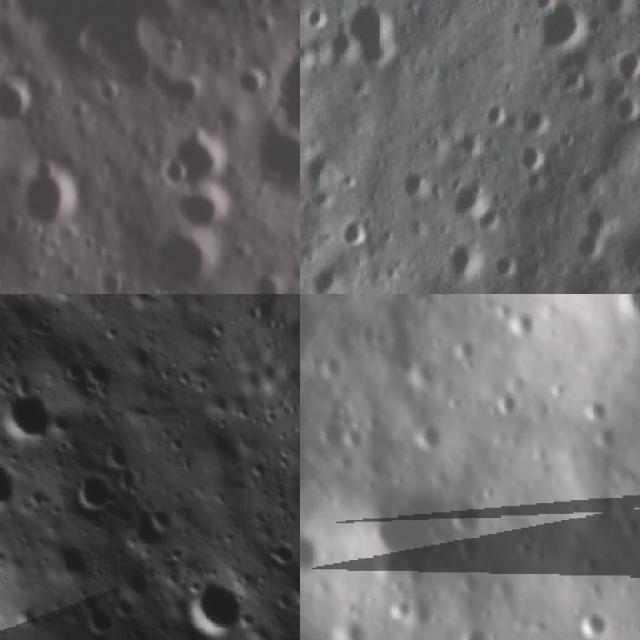crater: (342, 463, 485, 606), (164, 555, 264, 640), (0, 375, 69, 462), (108, 494, 186, 570), (300, 361, 335, 515), (29, 522, 96, 596), (24, 166, 96, 233), (338, 0, 401, 72), (56, 459, 120, 521), (307, 412, 369, 474), (0, 430, 37, 533), (441, 486, 501, 546), (159, 227, 216, 290), (107, 548, 164, 610), (255, 127, 300, 202), (472, 377, 530, 434), (529, 0, 592, 52), (71, 590, 133, 640), (399, 410, 454, 466), (493, 296, 548, 352), (0, 294, 114, 321), (0, 588, 56, 640), (250, 526, 300, 580), (175, 137, 237, 179), (453, 170, 501, 222), (76, 352, 126, 401), (0, 72, 37, 138), (300, 518, 332, 593), (173, 191, 239, 226), (565, 600, 622, 640), (94, 432, 140, 480), (278, 49, 300, 149), (447, 235, 490, 286), (590, 419, 635, 463), (580, 383, 624, 428), (582, 200, 623, 239), (321, 612, 377, 640), (335, 211, 373, 251), (524, 98, 560, 135), (306, 261, 346, 294), (397, 169, 433, 204), (56, 354, 90, 389), (494, 250, 525, 288), (451, 619, 506, 640), (238, 66, 272, 99), (575, 234, 610, 265), (520, 142, 554, 173), (300, 2, 331, 36), (0, 214, 37, 242), (613, 47, 640, 85), (614, 92, 640, 129), (483, 101, 516, 128), (168, 80, 201, 105), (290, 530, 300, 609), (100, 269, 131, 294), (256, 271, 287, 294), (161, 164, 190, 187), (131, 294, 178, 306), (254, 16, 278, 38), (205, 52, 227, 72), (250, 0, 276, 8)
